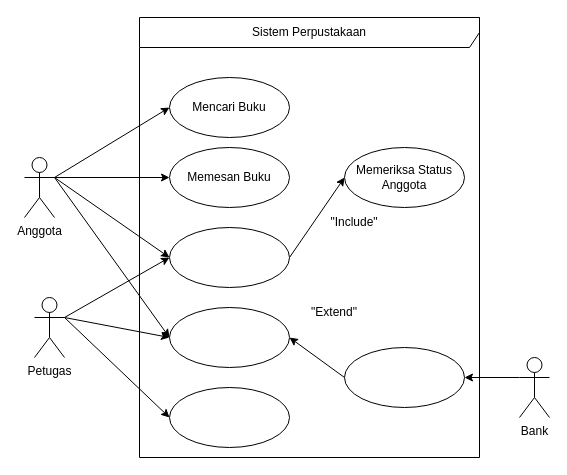
Some shapes in this 567 by 475 pixel diagram are drawn without their labels. The centre of each missing label's shape, as x and y in pixels:
"Membayar Denda" belongs at (x=404, y=377).
"Meminjam Buku" belongs at (x=229, y=257).
"Mengelola Data Buku" belongs at (x=229, y=417).
"Mengembalikan Buku" belongs at (x=229, y=337).
